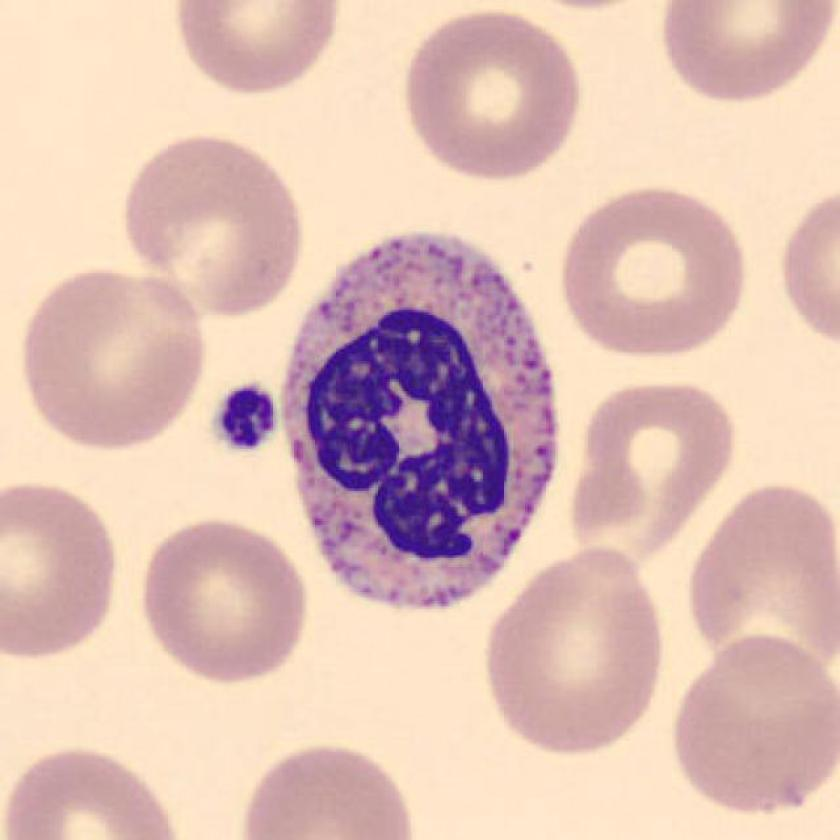neutrophil: (282, 232, 556, 610)
